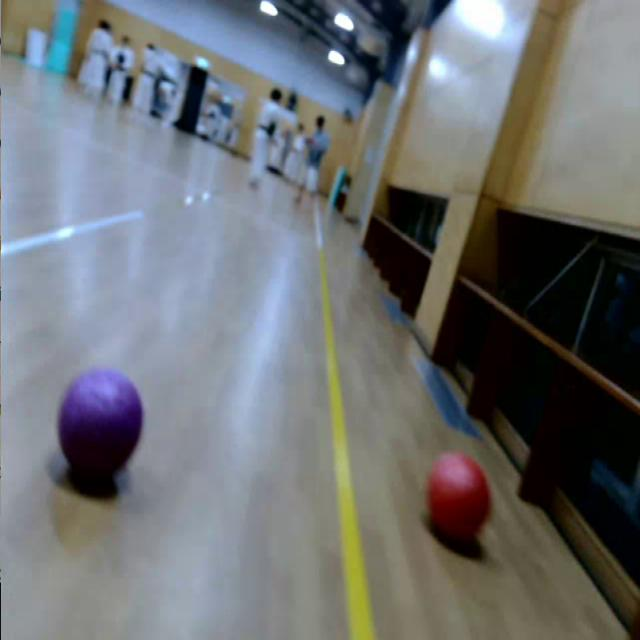purple_ball: (58, 362, 145, 480)
red_ball: (426, 450, 494, 544)
